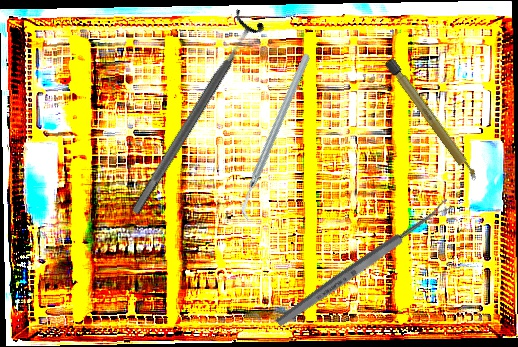Chopper: (189, 52, 363, 223)
Fixation Ring: (119, 8, 268, 222)
Scalpel Handle: (383, 56, 481, 185)
Surgical Spoon: (274, 197, 454, 330)
